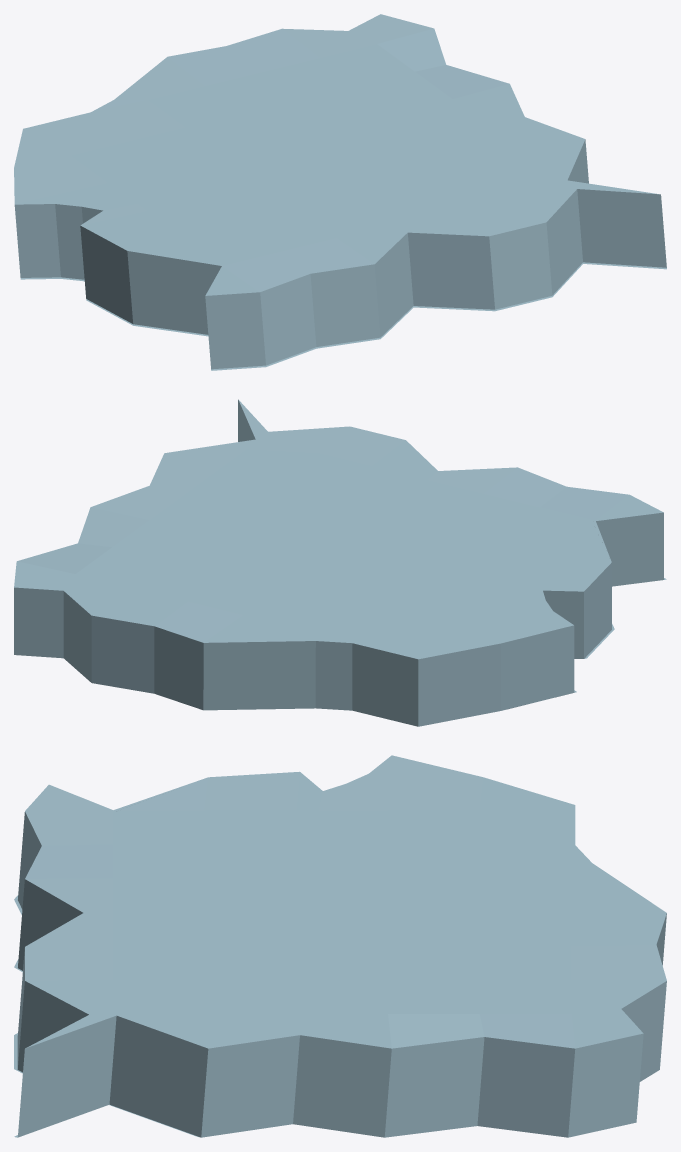
Rendered from ice_floe1(2).fbx.
3 views of the same model, one above another, from view 1: azimuth 30°, elevation 25°; view 2: azimuth 150°, elevation 25°; view 3: azimuth 270°, elevation 25° (orthographic). The views are drawn at different scales.
Parts seen in each view (by area): view 1: Plane; view 2: Plane; view 3: Plane.
Boxes of the visible parts, x1,y1,x2,y2 form: Plane: (14, 14, 666, 370); Plane: (14, 399, 666, 726); Plane: (14, 755, 666, 1137).
Size of the model in its own units: 2.17 by 0.3142 by 2.03.
